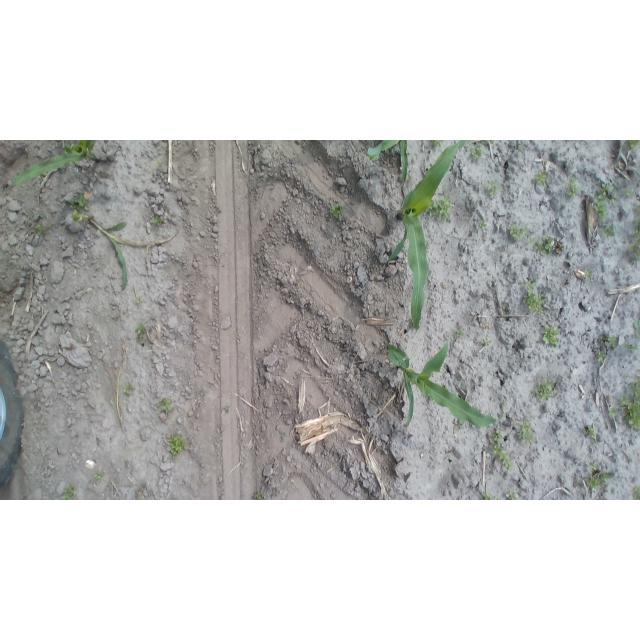Maize: (386, 141, 486, 338), (385, 341, 504, 432), (67, 211, 146, 293), (2, 140, 106, 194), (366, 140, 410, 186)
Weeds: (614, 385, 640, 432), (488, 429, 515, 473), (591, 182, 617, 222), (586, 462, 613, 492), (523, 280, 546, 313), (430, 194, 453, 222), (70, 189, 91, 211), (534, 379, 555, 401), (168, 433, 186, 457), (536, 236, 557, 256), (517, 420, 535, 443), (543, 324, 561, 346), (508, 223, 529, 241), (564, 179, 580, 198), (136, 323, 149, 346), (602, 333, 620, 349), (158, 397, 175, 413), (60, 485, 78, 500), (486, 179, 500, 198), (534, 170, 550, 186), (329, 203, 343, 220), (584, 425, 599, 439), (33, 225, 52, 236), (470, 146, 484, 160), (596, 348, 609, 362), (122, 382, 135, 396), (601, 226, 616, 238), (630, 244, 639, 263), (479, 337, 493, 348), (153, 215, 165, 227), (481, 491, 499, 499), (583, 268, 594, 280), (626, 342, 638, 353), (251, 491, 265, 500), (430, 141, 444, 150), (505, 491, 519, 500), (222, 404, 233, 414), (93, 471, 104, 481), (624, 187, 634, 198), (608, 406, 616, 419), (279, 430, 288, 441), (456, 327, 465, 338), (631, 485, 638, 499), (626, 140, 638, 148), (477, 219, 486, 229), (135, 295, 144, 305), (633, 321, 638, 338), (633, 224, 638, 240), (157, 160, 164, 170), (528, 237, 535, 246), (460, 377, 467, 385)
